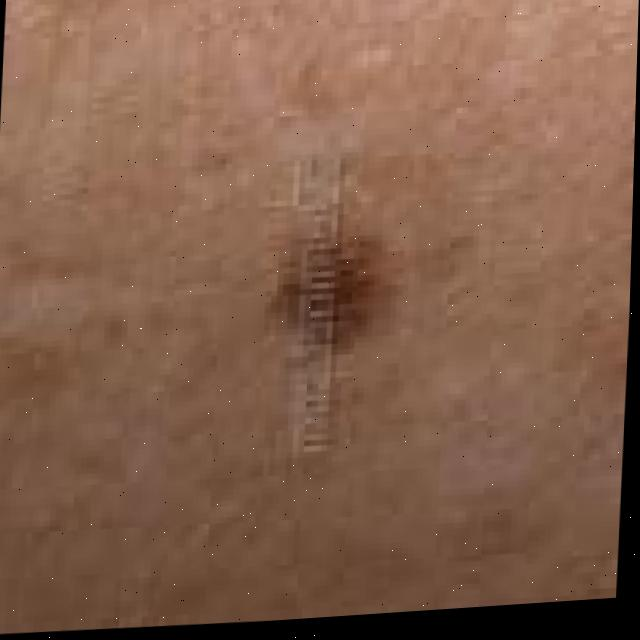Melasma: (277, 238, 373, 338)
